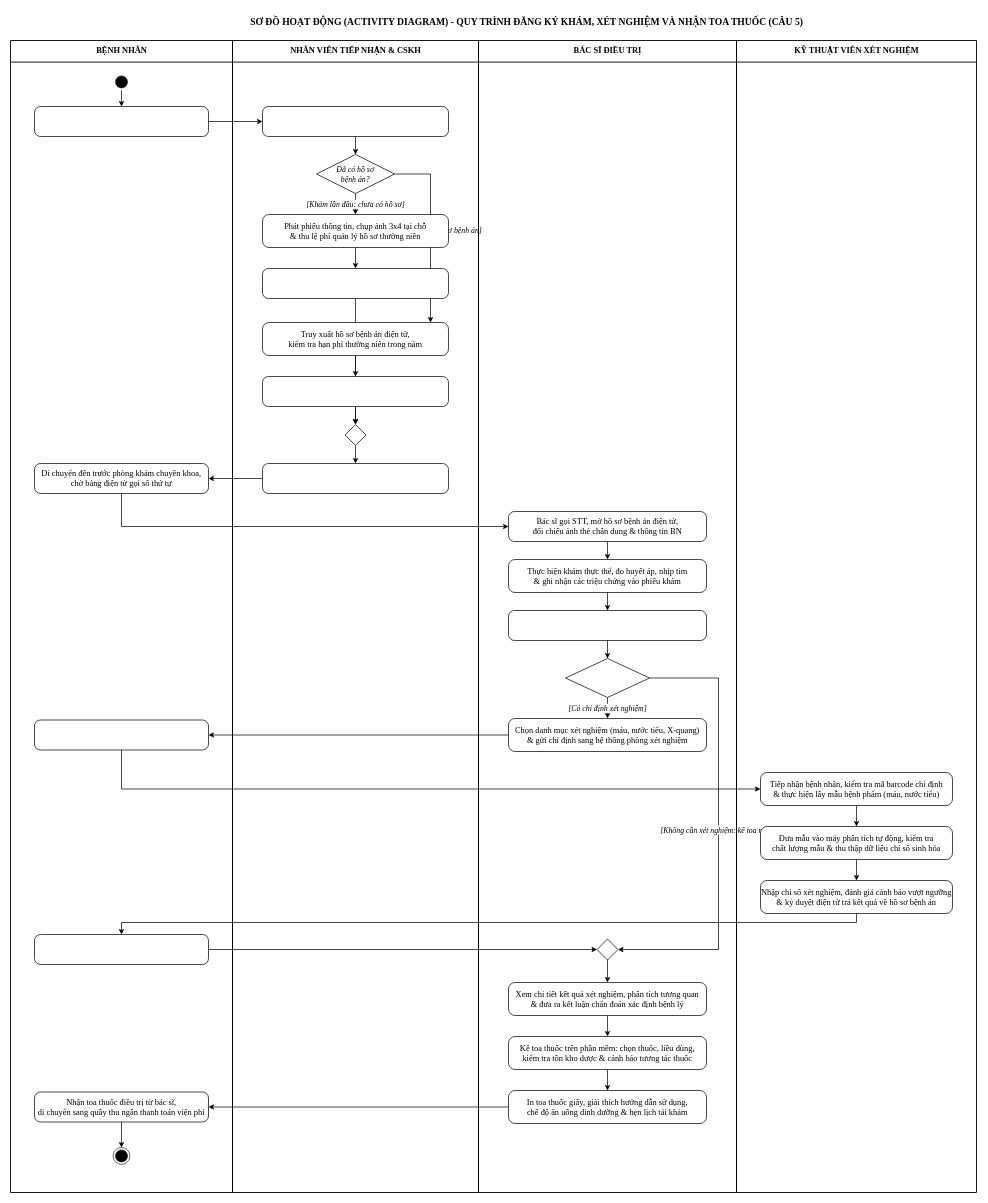
Some shapes in this 988 by 1203 pixel diagram are drawn without their labels. The shapes that lost their labels are listed below. From the top down, each one's centre as x and y in pixels, then its label:
At [121,121]: "Đến quầy tiếp nhận, xuất trình số CCCD & yêu cầu đăng ký khám bệnh".
At [355,121]: "Tiếp nhận thông tin, tra cứu số CCCD trên hệ thống quản lý bệnh án".
At [355,283]: "Tạo mã hồ sơ bệnh án mới, in biên lai thu & lưu trữ ảnh chân dung vào CSDL".
At [355,391]: "Kiểm tra lịch khám định kỳ theo quý & áp dụng chính sách miễn phí khám bệnh".
At [355,478]: "Cấp phiếu số thứ tự khám & phân luồng hướng dẫn bệnh nhân vào phòng khám bác sĩ".
At [607,625]: "Tổng hợp dữ liệu khám thực thể & tiền sử để đưa ra kết luận chẩn đoán sơ bộ".
At [607,678]: "Cần xét nghiệm cận lâm sàng?".
At [121,734]: "Cầm phiếu chỉ định di chuyển sang khu vực kỹ thuật cận lâm sàng".
At [121,949]: "Quay lại phòng khám ban đầu để bác sĩ đối soát kết quả xét nghiệm & kết luận".
